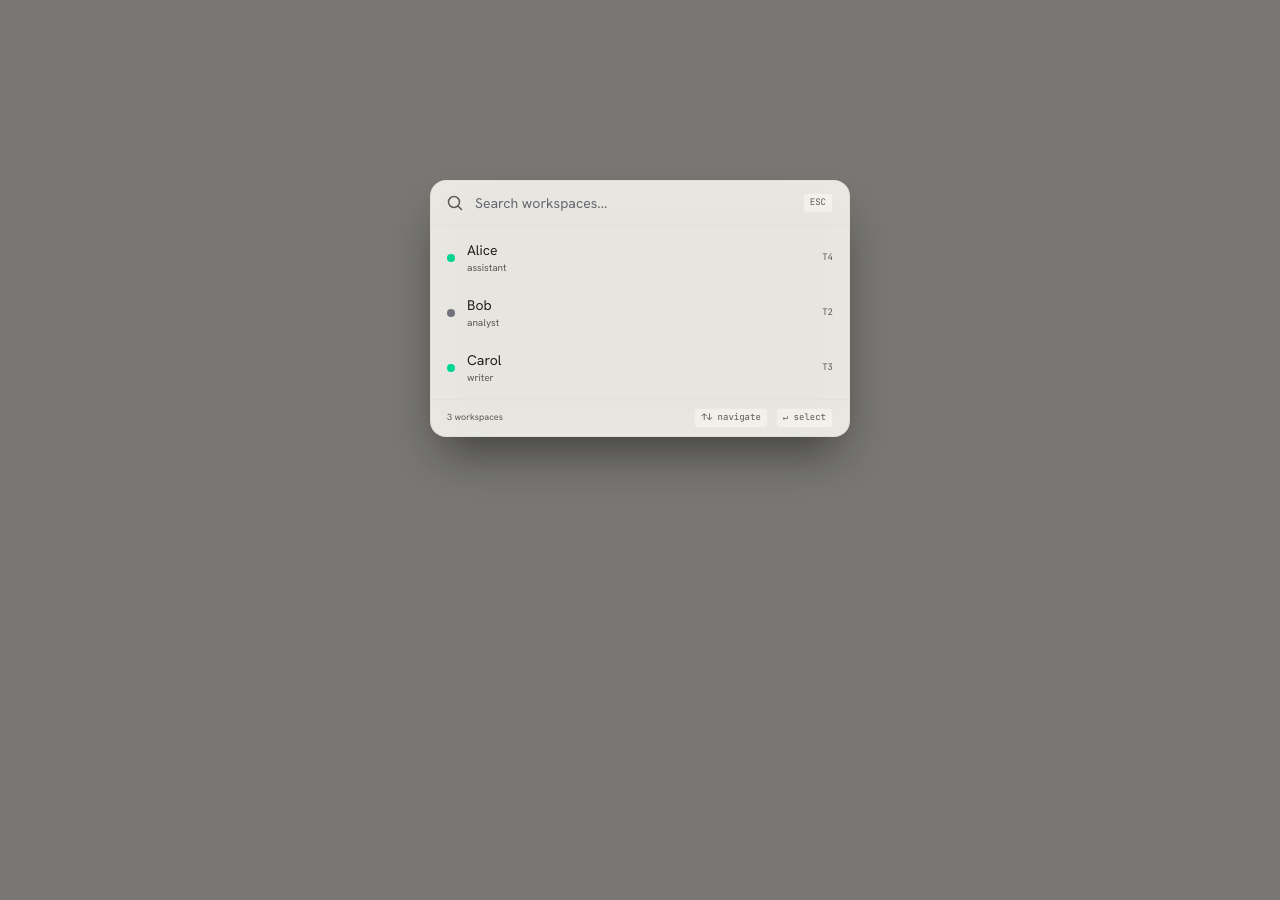
Test: SearchDialog — filtering › filters workspaces by name (case-insensitive)
Step 1. Type "alice" into the dropdown → (633, 203), box [475,193,791,213]
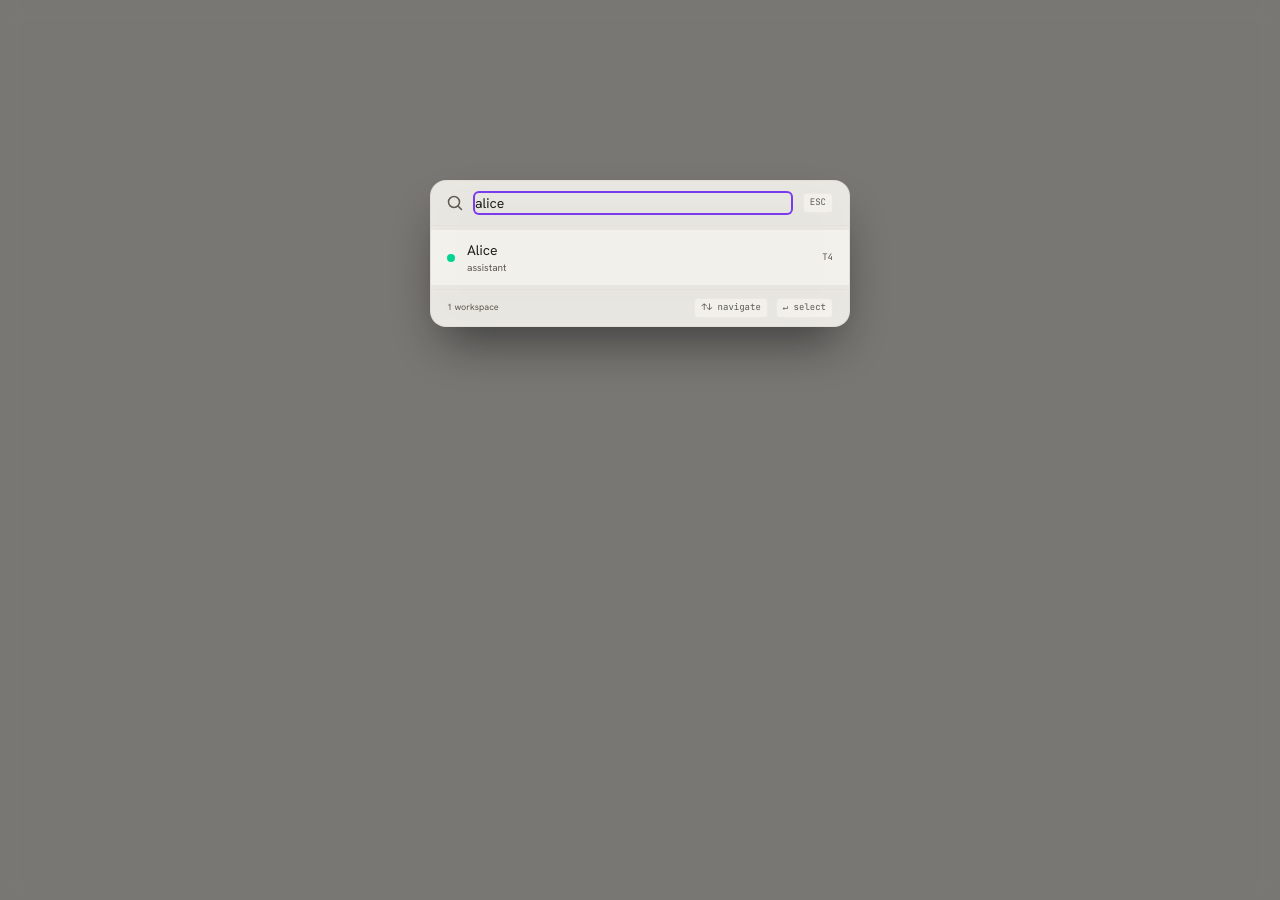
Expected: the text "Alice" is shown, [467,241,498,259]
Expected: the option "Bob" is gone
Expected: the option "Carol" is gone
